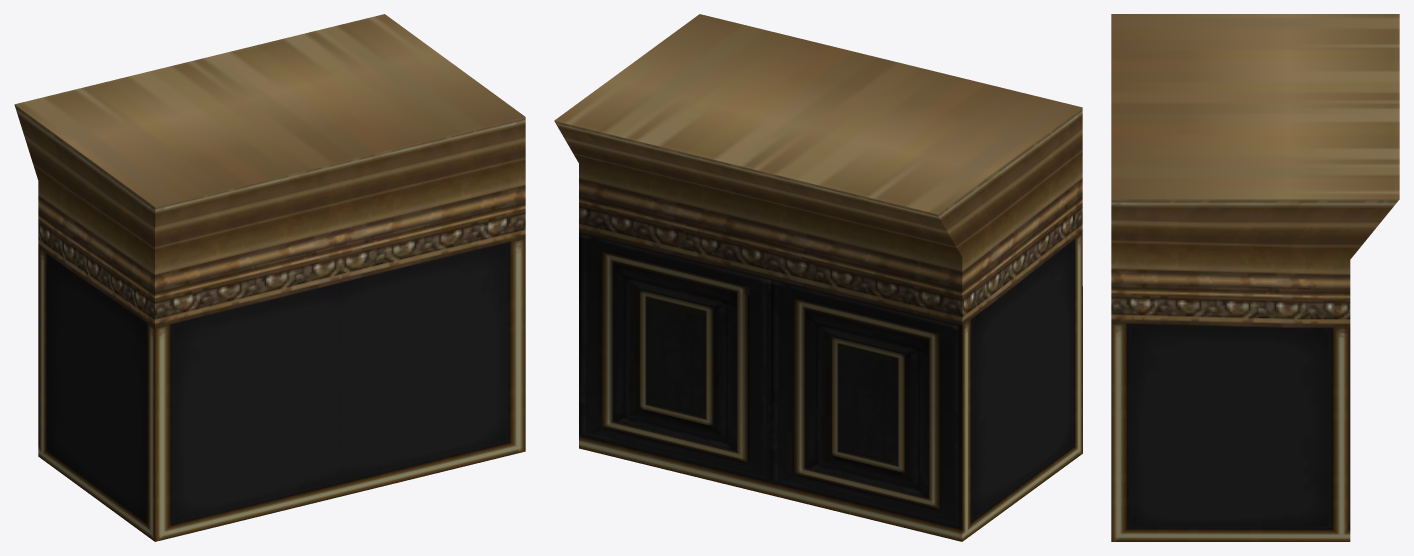
File: furni_0200321.FBX
3 views of the same model, side by side, from view 1: azimuth 30°, elevation 25°; view 2: azimuth 150°, elevation 25°; view 3: azimuth 270°, elevation 25° (orthographic). The views are drawn at different scales.
Parts seen in each view (by area): view 1: furni_0200321; view 2: furni_0200321; view 3: furni_0200321.
Part boxes in pixels (bbox=[...]): furni_0200321: bbox=[14, 14, 525, 541]; furni_0200321: bbox=[554, 14, 1082, 541]; furni_0200321: bbox=[1111, 14, 1399, 541].
Size of the model in its own units: 81.43 by 70.29 by 53.58.
